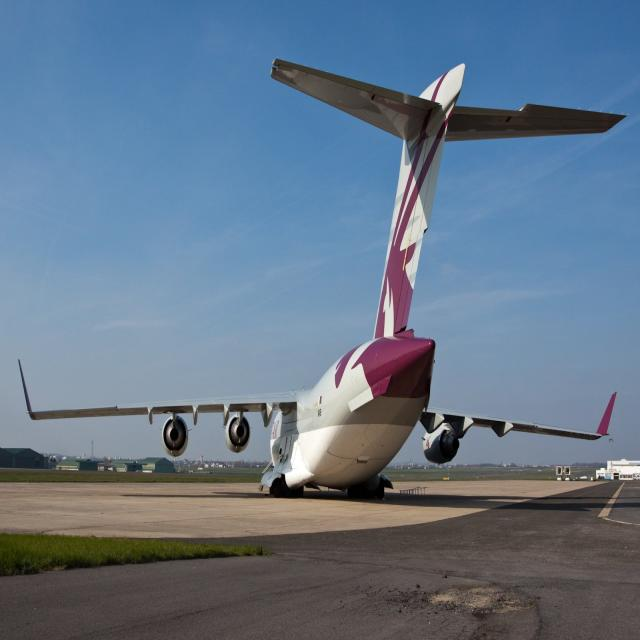MIL_Plane: (18, 57, 629, 501)
